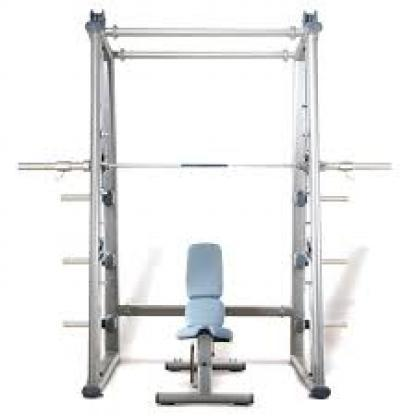smith machine: (19, 6, 396, 402)
